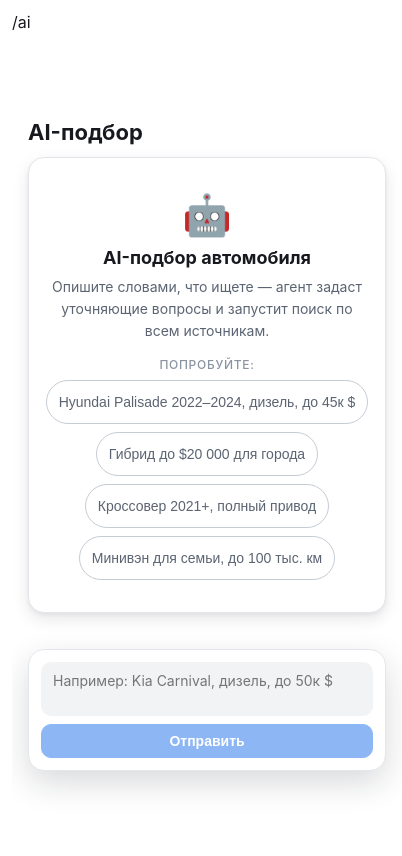
Test case: AiSearch: интро и карточка критериев (A1) › клик по чипсу-примеру отправляет промпт агенту
This screenshot has width=402, height=856.
Click the button "Гибрид до $20 000 для города" at (207, 454), box [96,432,318,476]
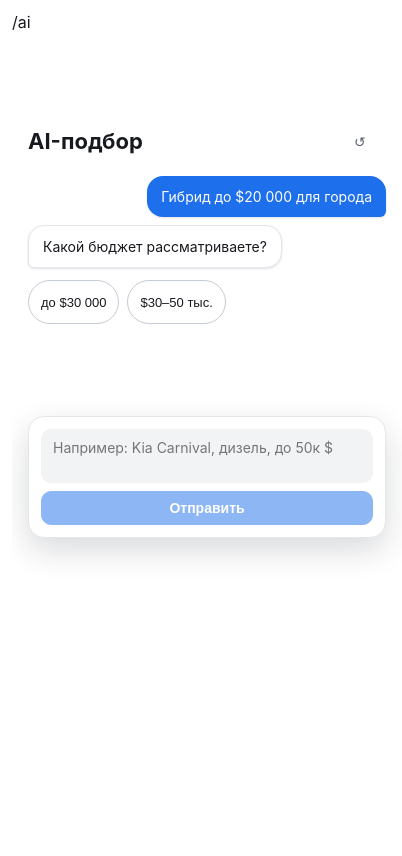
Expected: the text "Какой бюджет рассматриваете?" is shown, [43,236,267,257]
